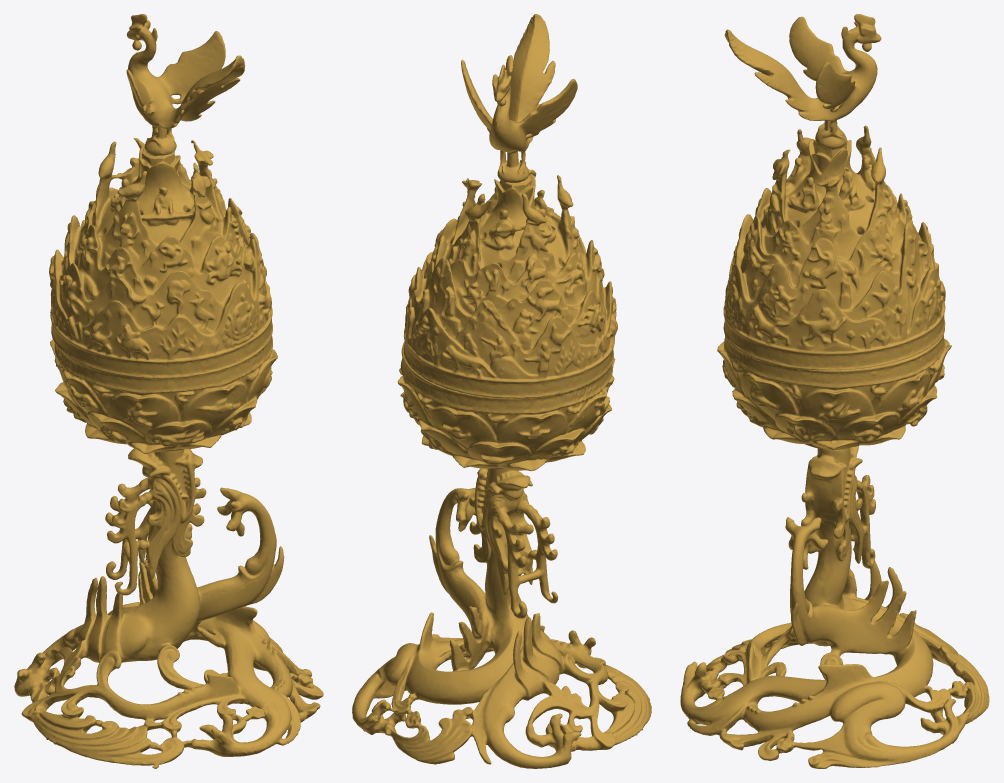
File: GD_lowpoly.glb
3 renders of one model, left to right at view 1: azimuth 30°, elevation 25°; view 2: azimuth 150°, elevation 25°; view 3: azimuth 270°, elevation 25°, orthographic. The views are drawn at different scales.
Parts seen in each view (by area): view 1: 대향로1; view 2: 대향로1; view 3: 대향로1.
Part boxes in pixels (left/top/right/bottom): 대향로1: left=14, top=14, right=323, bottom=768; 대향로1: left=352, top=14, right=651, bottom=768; 대향로1: left=680, top=14, right=989, bottom=768.
Size of the model in its own units: 31.58 by 78.21 by 31.93.
